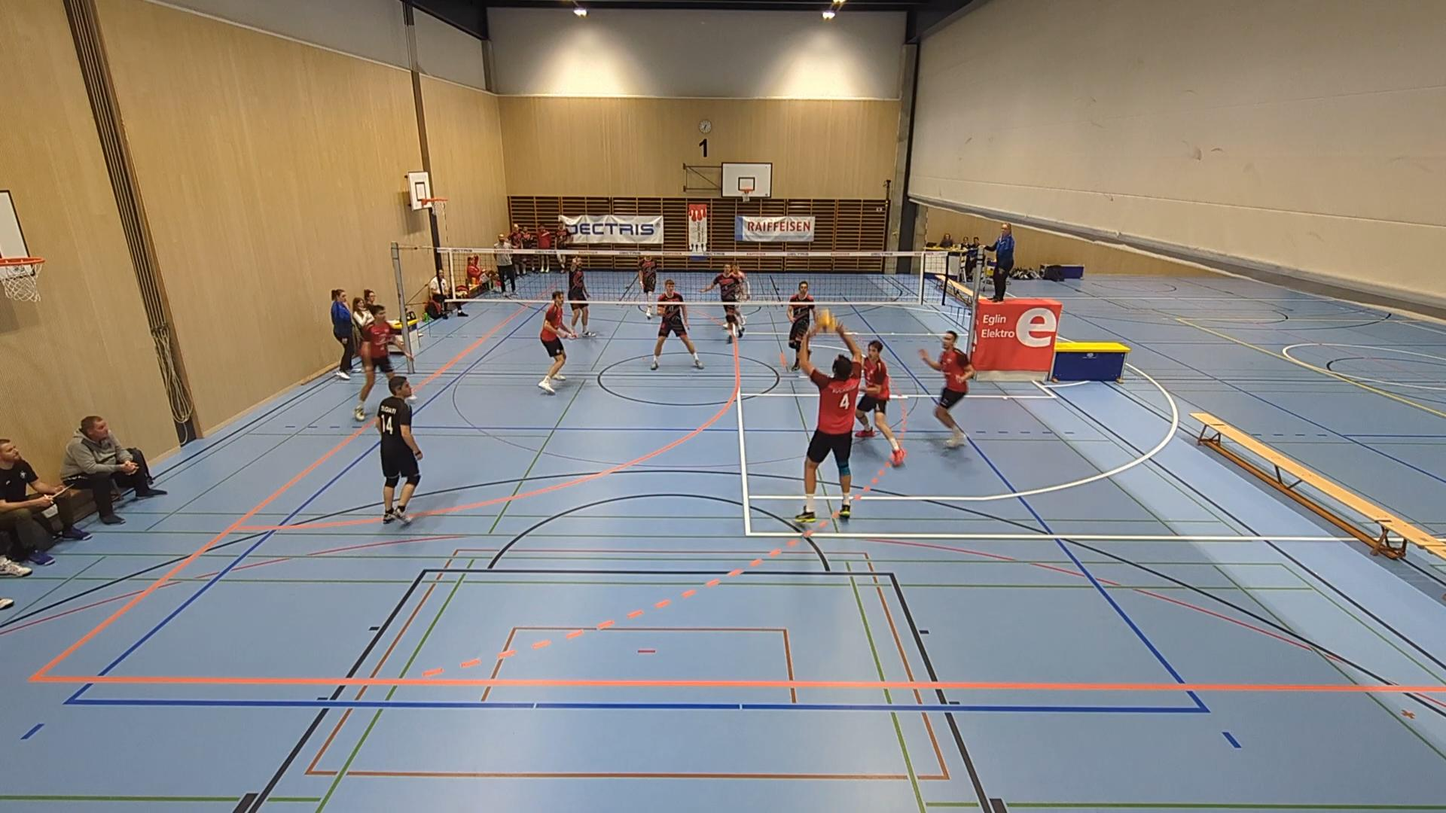difesa: (783, 318, 870, 534)
